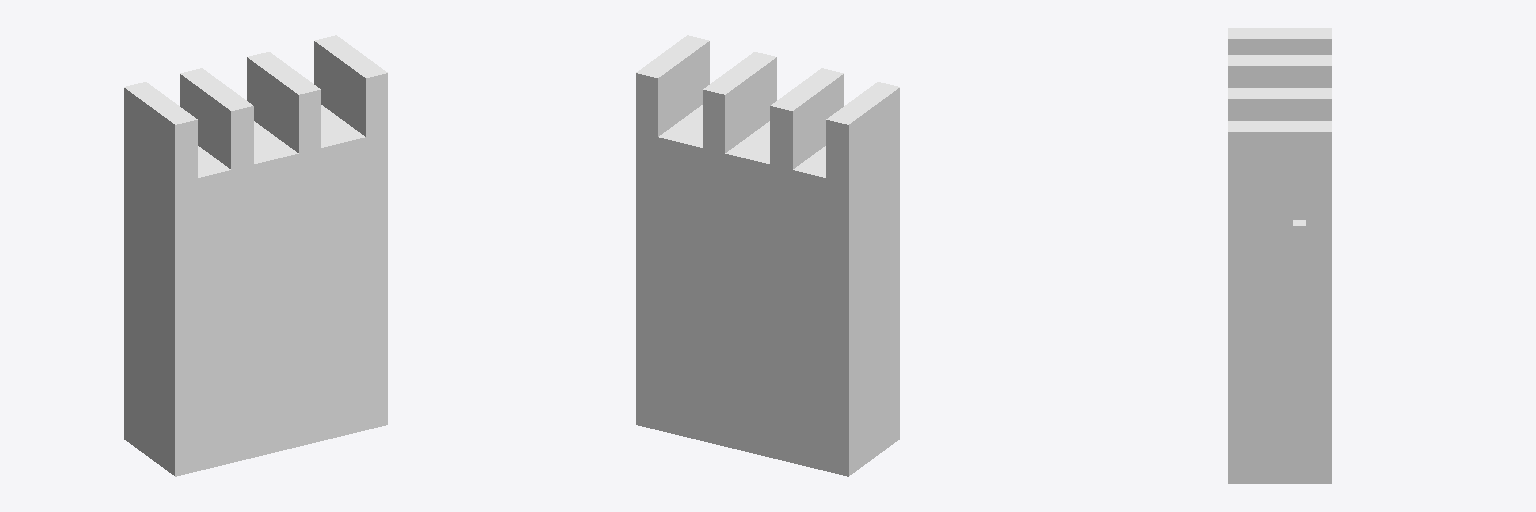
The model's file is mura_1.obj.
3 views of the same model, side by side, from view 1: azimuth 30°, elevation 25°; view 2: azimuth 150°, elevation 25°; view 3: azimuth 270°, elevation 25° (orthographic).
Bounding box in the file's own units: 19 × 30 × 8.